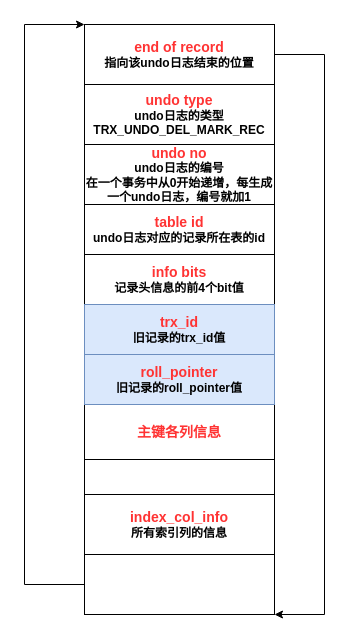
The diagram is 350 pixels wide and 640 high, and some of its shapes have lost their labels. Each missing label, with the centre of its shape:
"len of index_col_info" belongs at point 179,476.
"start of record 指向该undo日志开始的位置" belongs at point 179,584.
